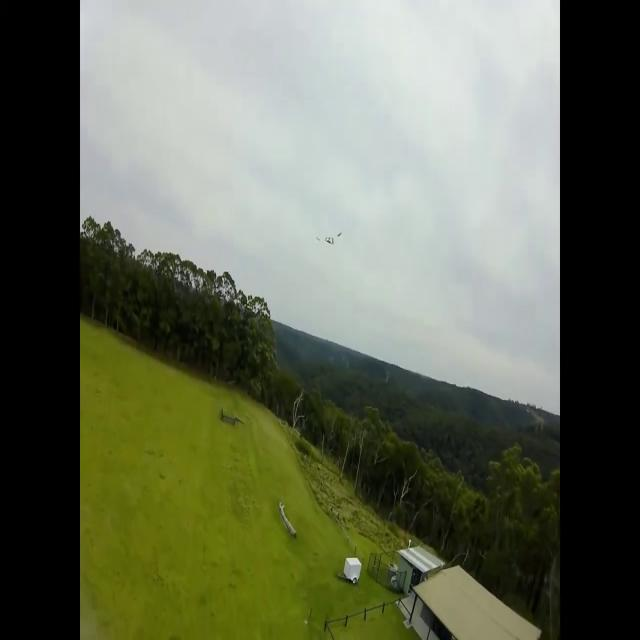iha: (310, 232, 337, 245)
